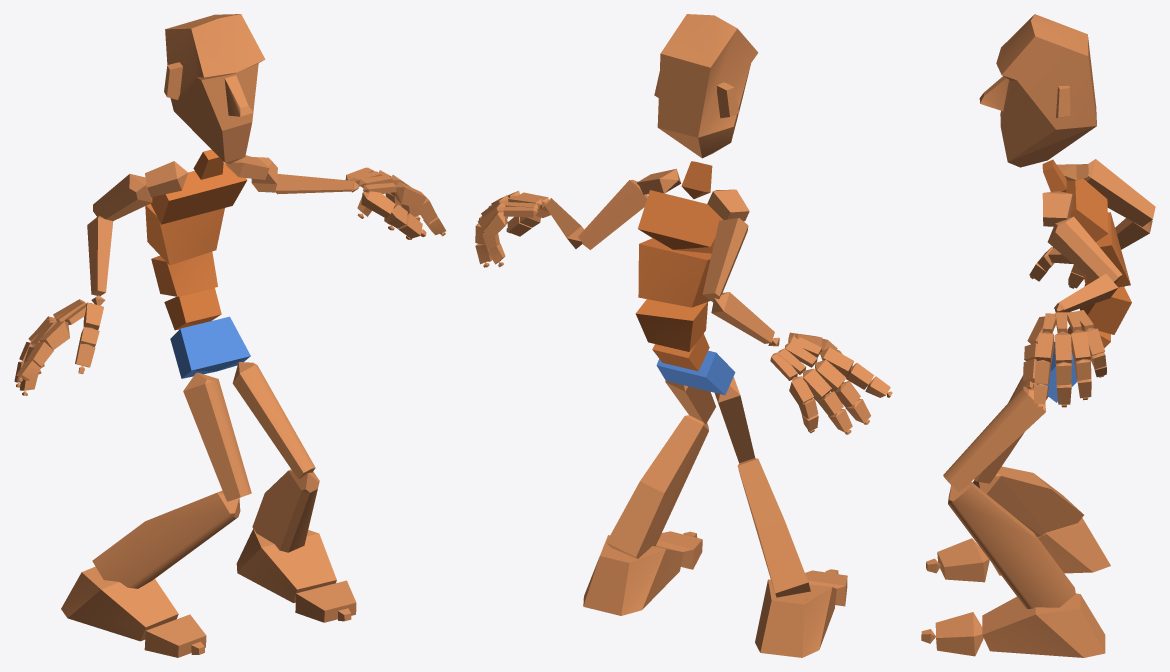
File: prueba135.obj
3 renders of one model, left to right at view 1: azimuth 30°, elevation 25°; view 2: azimuth 150°, elevation 25°; view 3: azimuth 270°, elevation 25°, orthographic.
Parts seen in each view (by area): view 1: BOPED_Head, BOPED_R_leg, BOPED_R_foot, BOPED_R_foot01, BOPED_R_legup, BOPED_L_leg, Bone01, BOPED_L_legup, Bone04, Bone05, Bone03, BOPED_R_foot_toe04 (+8 smaller); view 2: BOPED_Head, BOPED_L_leg, BOPED_R_foot01, BOPED_R_foot, BOPED_R_leg, Bone04, Bone05, Bone03, BOPED_R_arm_upper, BOPED_L_arm_upper, Bone01, BOPED_R_legup (+9 smaller); view 3: BOPED_Head, BOPED_L_leg, BOPED_R_foot01, BOPED_R_leg, BOPED_L_legup, BOPED_R_foot, BOPED_L_arm_upper, BOPED_R_arm_upper, Bone05, BOPED_R_foot_toe01, BOPED_R_foot_toe04, Bone03 (+14 smaller).
Part boxes in pixels (box(x1,y1,x2,y2)): BOPED_Head: box(164, 14, 265, 163); BOPED_R_leg: box(92, 490, 240, 588); BOPED_R_foot: box(61, 566, 178, 641); BOPED_R_foot01: box(236, 528, 336, 602); BOPED_R_legup: box(183, 372, 251, 501); BOPED_L_leg: box(252, 469, 319, 552); Bone01: box(170, 316, 250, 378); BOPED_L_legup: box(232, 362, 315, 479); Bone04: box(145, 203, 224, 265); Bone05: box(150, 163, 247, 224); Bone03: box(151, 251, 217, 296); BOPED_R_foot_toe04: box(295, 580, 356, 622); BOPED_Head: box(654, 14, 758, 158); BOPED_L_leg: box(606, 415, 708, 558); BOPED_R_foot01: box(583, 535, 683, 615); BOPED_R_foot: box(755, 579, 836, 657); BOPED_R_leg: box(737, 458, 810, 597); Bone04: box(638, 238, 711, 307); Bone05: box(638, 190, 722, 253); Bone03: box(635, 299, 707, 351); BOPED_R_arm_upper: box(702, 218, 748, 302); BOPED_L_arm_upper: box(578, 179, 647, 249); Bone01: box(656, 350, 735, 394); BOPED_R_legup: box(714, 377, 755, 463); BOPED_Head: box(979, 14, 1096, 167); BOPED_L_leg: box(948, 482, 1075, 609); BOPED_R_foot01: box(982, 593, 1105, 657); BOPED_R_leg: box(972, 466, 1083, 536); BOPED_L_legup: box(943, 386, 1045, 491); BOPED_R_foot: box(992, 518, 1110, 575); BOPED_L_arm_upper: box(1047, 216, 1122, 283); BOPED_R_arm_upper: box(1083, 159, 1155, 226); Bone05: box(1065, 178, 1108, 242); BOPED_R_foot_toe01: box(937, 538, 989, 582); BOPED_R_foot_toe04: box(935, 612, 983, 656); Bone03: box(1080, 284, 1131, 334).
Bounding box in the file's own units: 130 × 174 × 62.8.
